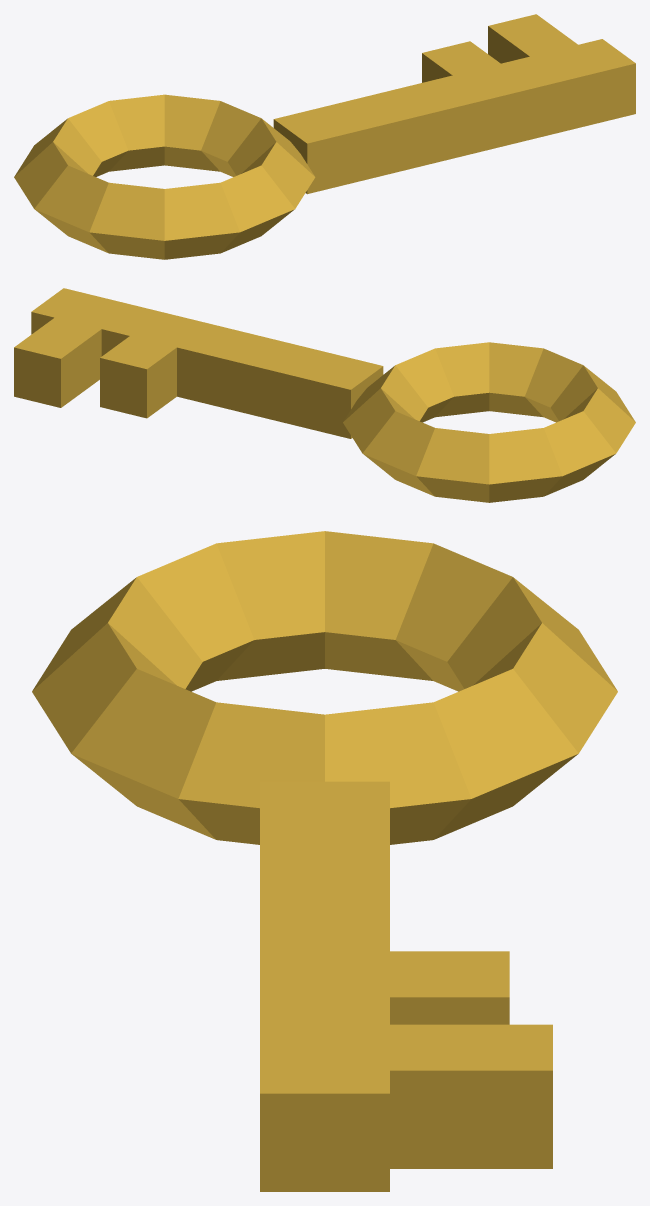
Rendered from key.fbx.
The picture shows the model from 3 angles, top to bottom: view 1: azimuth 30°, elevation 25°; view 2: azimuth 150°, elevation 25°; view 3: azimuth 270°, elevation 25°; orthographic projection. The views are drawn at different scales.
Visible parts, largest first — view 1: key; view 2: key; view 3: key.
Part boxes in pixels (bbox=[...]): key: bbox=[14, 14, 635, 259]; key: bbox=[14, 288, 635, 502]; key: bbox=[32, 531, 617, 1191].
Bounding box in the file's own units: 0.0605 × 0.007 × 0.027.
